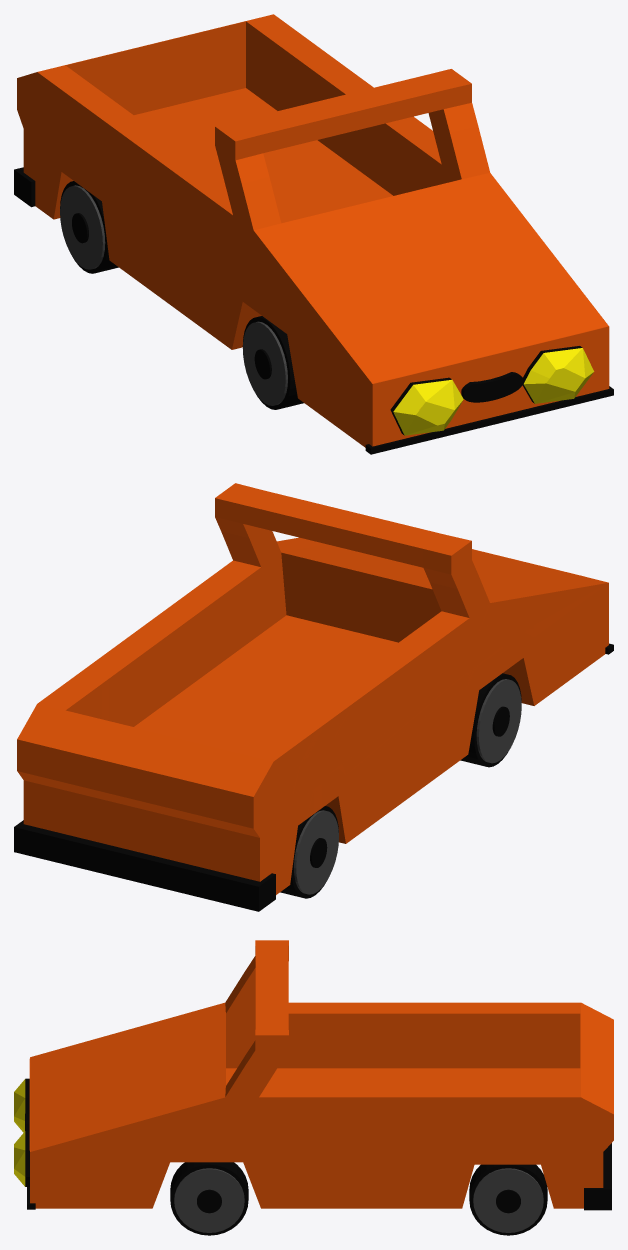
File: Common Orange.fbx
3 renders of one model, top to bottom at view 1: azimuth 30°, elevation 25°; view 2: azimuth 150°, elevation 25°; view 3: azimuth 270°, elevation 25°, orthographic. The views are drawn at different scales.
Parts seen in each view (by area): view 1: Cylinder; view 2: Cylinder; view 3: Cylinder.
Boxes of the visible parts, x1=… form: Cylinder: x1=14, y1=14, x2=613, y2=454; Cylinder: x1=14, y1=483, x2=613, y2=911; Cylinder: x1=14, y1=940, x2=613, y2=1235.
Size of the model in its own units: 146 by 139 by 377.
